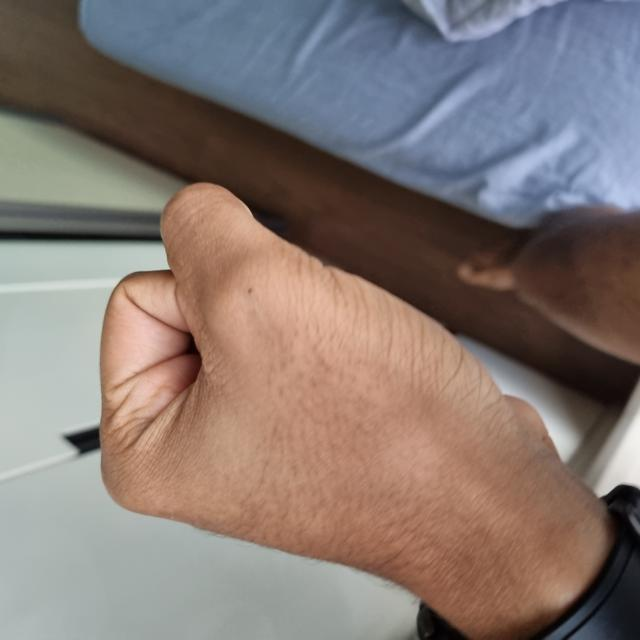Rock: (38, 97, 456, 539)
